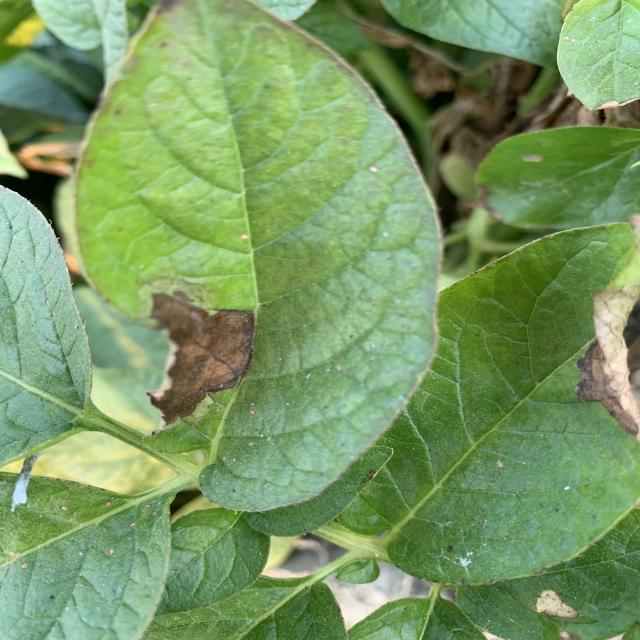lateblight: (148, 291, 255, 424), (577, 221, 640, 438)
